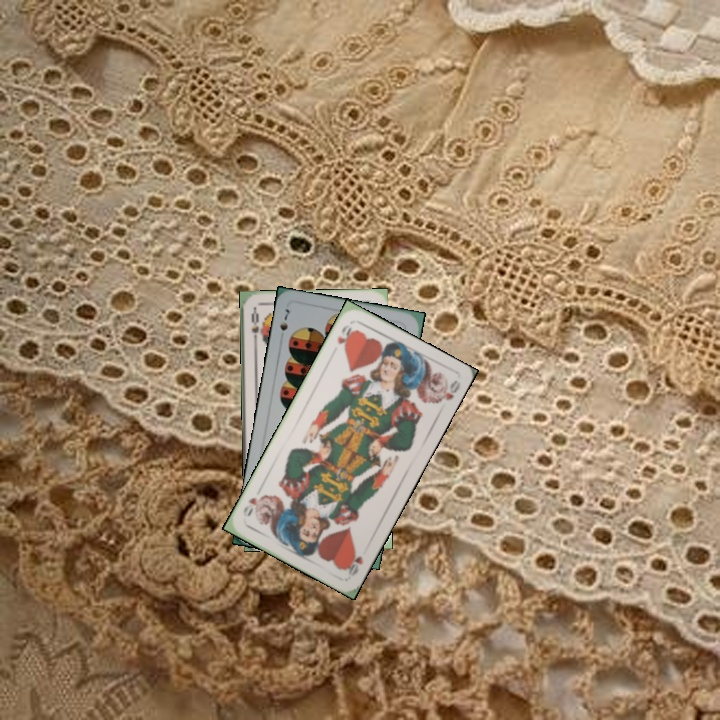HO: (342, 547, 366, 579), (333, 320, 356, 352)
S7: (276, 305, 293, 334)
SO: (247, 306, 261, 346)
